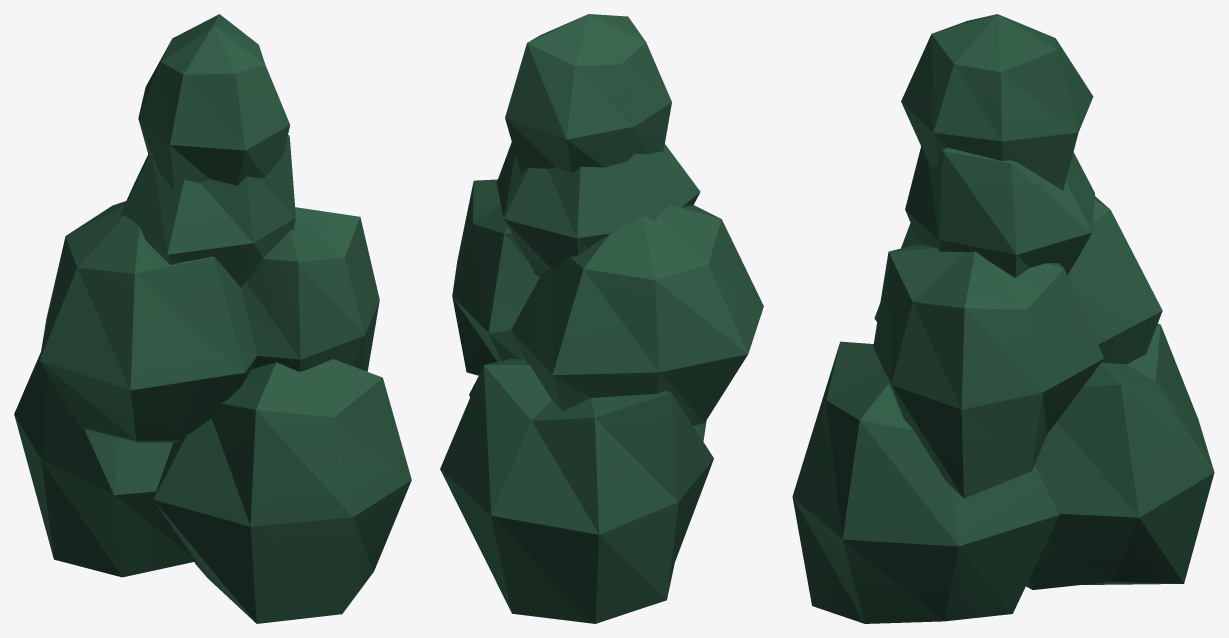
Rendered from holly_1.glb.
The picture shows the model from 3 angles, left to right: view 1: azimuth 30°, elevation 25°; view 2: azimuth 150°, elevation 25°; view 3: azimuth 270°, elevation 25°; orthographic projection. The views are drawn at different scales.
Parts seen in each view (by area): view 1: holly_1; view 2: holly_1; view 3: holly_1.
Part boxes in pixels (left/top/right/bottom): holly_1: left=14, top=14, right=411, bottom=623; holly_1: left=440, top=14, right=763, bottom=623; holly_1: left=792, top=14, right=1214, bottom=623.
Size of the model in its own units: 0.9928 by 1.66 by 1.07.
